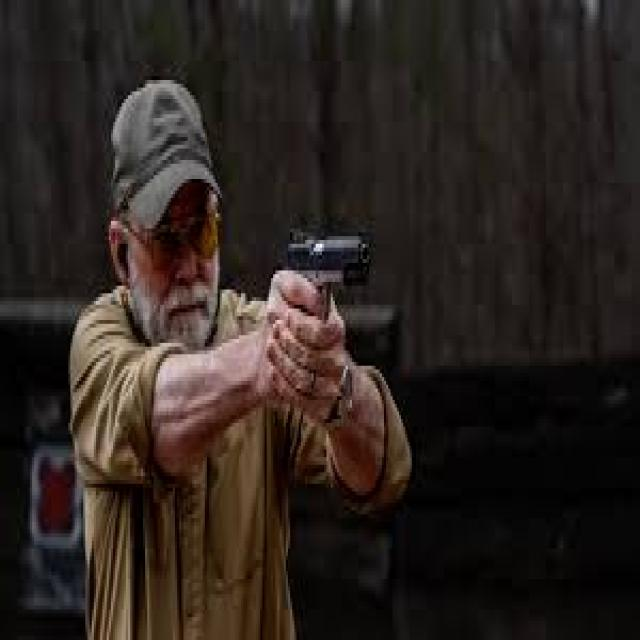weapons: (273, 208, 385, 372)
